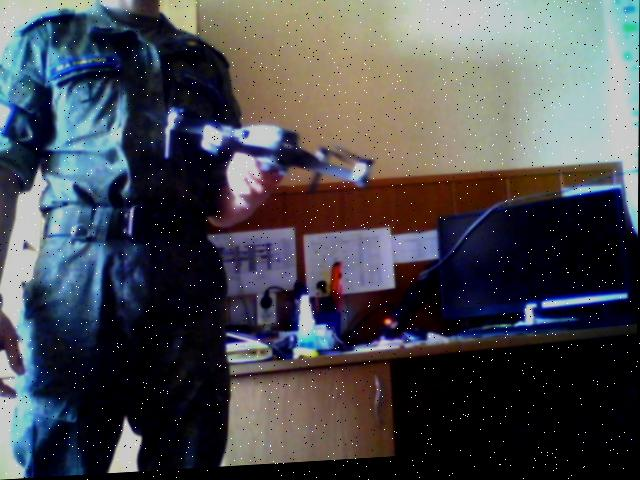drone: (151, 95, 379, 212)
